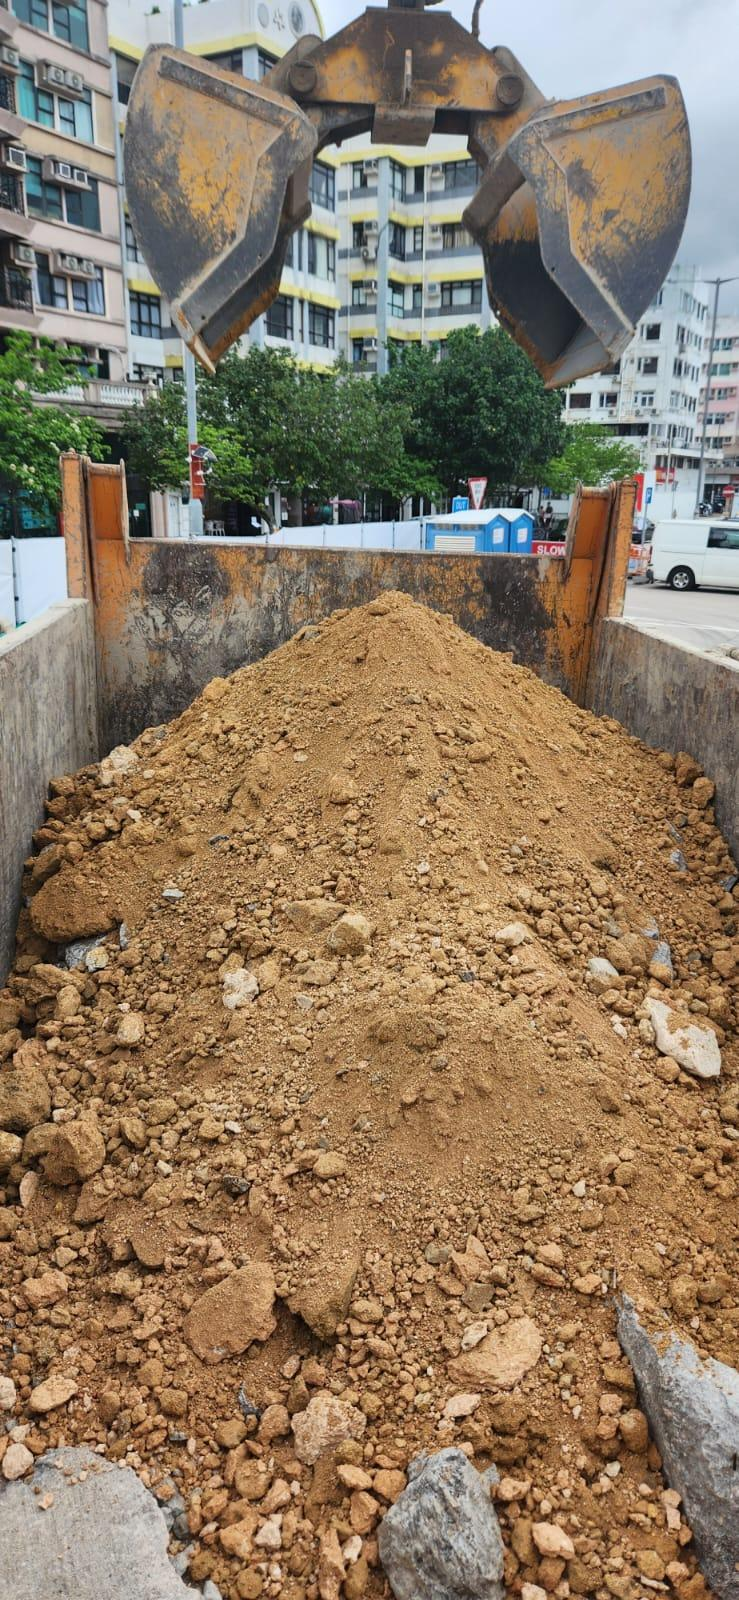dry: (2, 602, 739, 1600)
